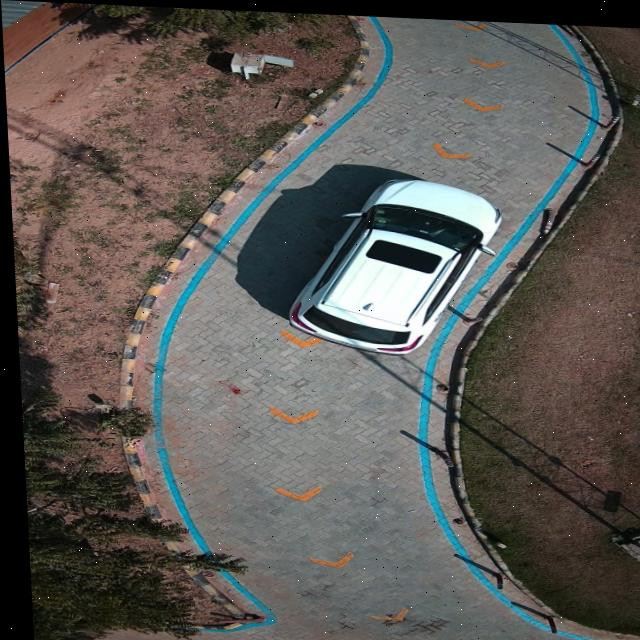car: (283, 176, 499, 352)
